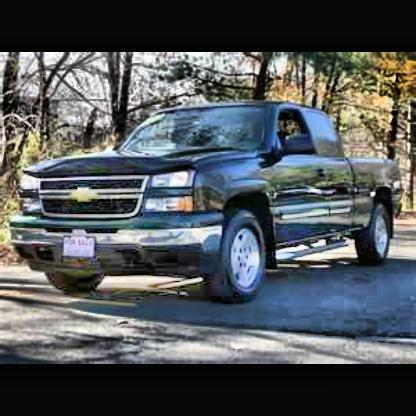Chevrolet Silverado 1500 Classic Extended Cab 2007: (10, 101, 409, 309)
